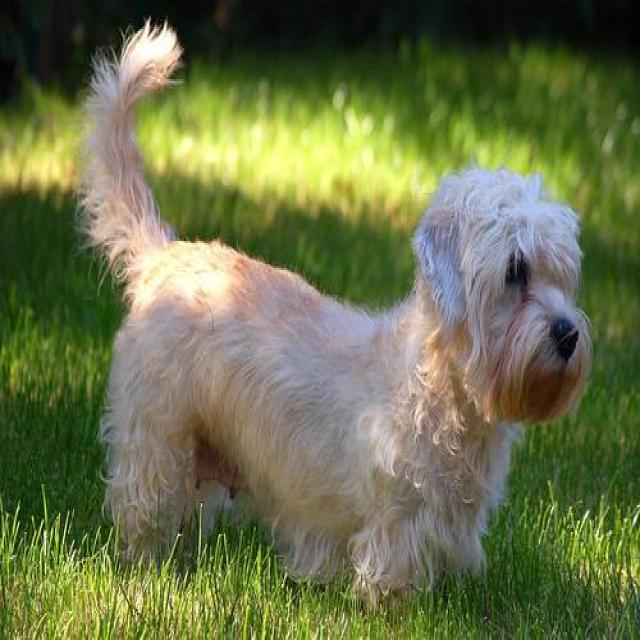dandie_dinmont: (75, 21, 592, 602)
